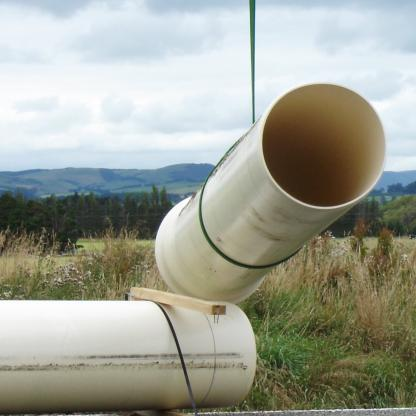PVC: (154, 83, 386, 304), (2, 296, 261, 414)
